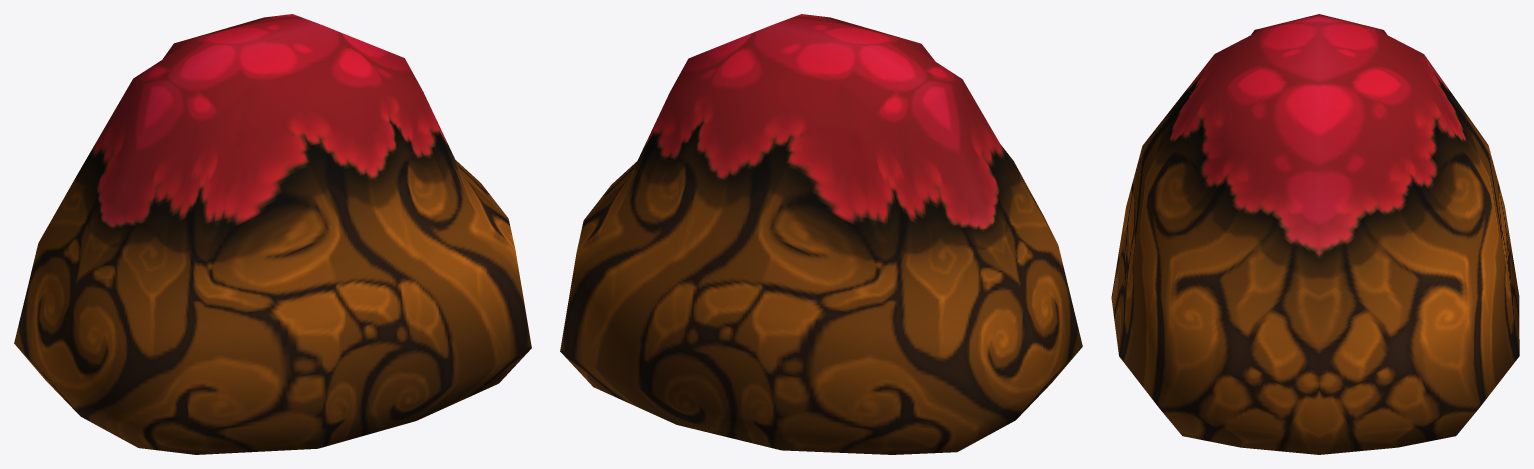
Rendered from Red_Rock_04.FBX.
3 renders of one model, left to right at view 1: azimuth 30°, elevation 25°; view 2: azimuth 150°, elevation 25°; view 3: azimuth 270°, elevation 25°, orthographic. The views are drawn at different scales.
Visible parts, largest first — view 1: Red_Rock_04; view 2: Red_Rock_04; view 3: Red_Rock_04.
Boxes of the visible parts, <box> form: Red_Rock_04: <box>14,14,531,454</box>; Red_Rock_04: <box>560,14,1082,454</box>; Red_Rock_04: <box>1111,14,1519,454</box>.
Bounding box in the file's own units: 292 × 212 × 243.
